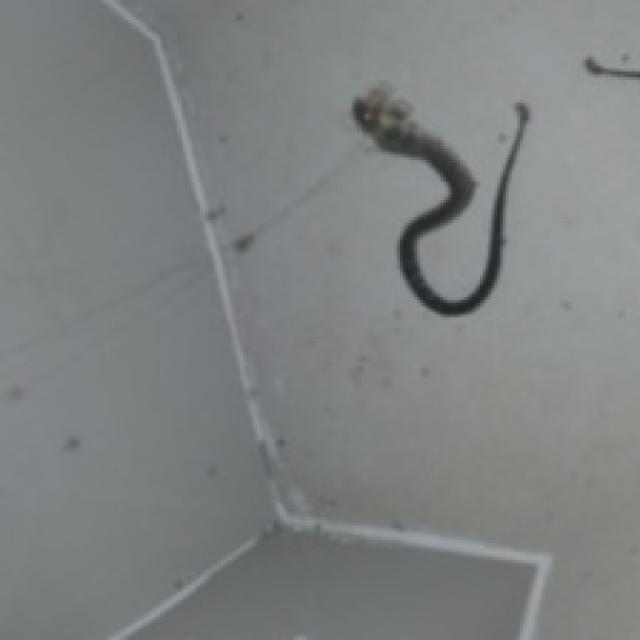gunthers philippine shrub snake: (354, 89, 526, 311)
